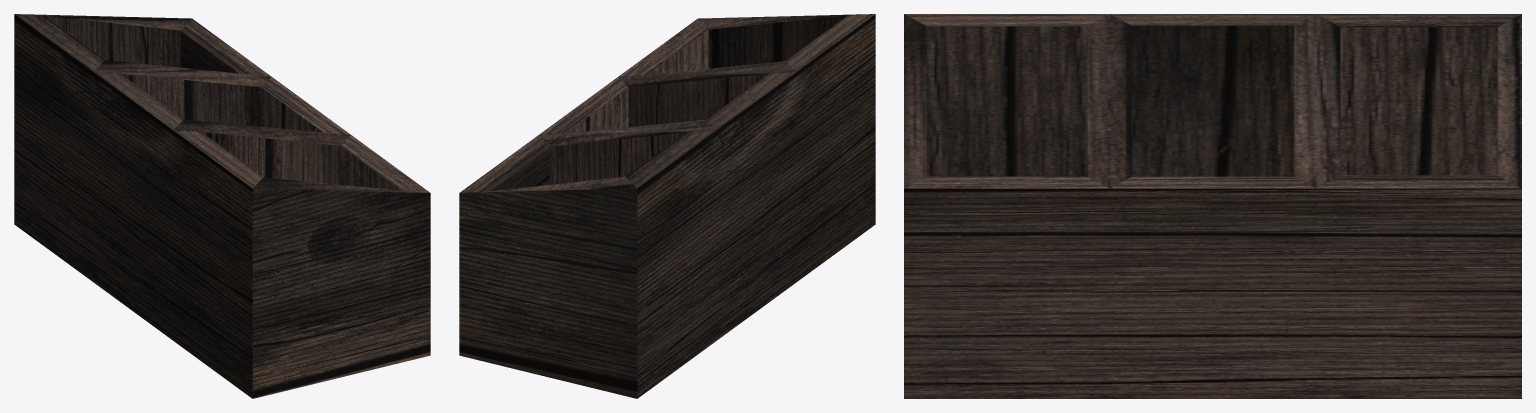
Rendered from Compartment.fbx.
3 views of the same model, side by side, from view 1: azimuth 30°, elevation 25°; view 2: azimuth 150°, elevation 25°; view 3: azimuth 270°, elevation 25° (orthographic). The views are drawn at different scales.
Parts seen in each view (by area): view 1: Compartment; view 2: Compartment; view 3: Compartment.
Part boxes in pixels (bbox=[...]): Compartment: bbox=[14, 14, 430, 398]; Compartment: bbox=[459, 14, 875, 398]; Compartment: bbox=[904, 14, 1521, 398].
Size of the model in its own units: 14.06 by 15.89 by 32.64.
